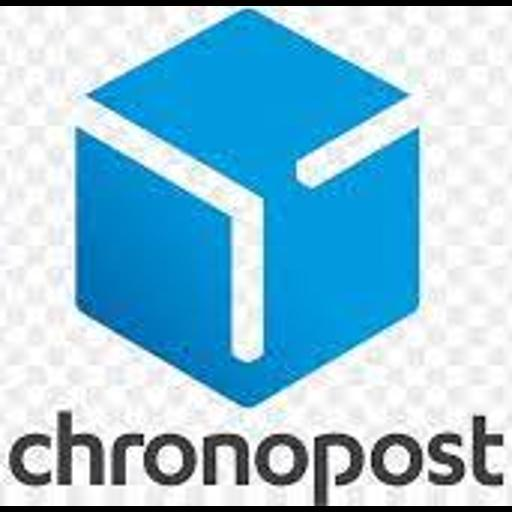Chronopost International: (0, 6, 512, 506)
